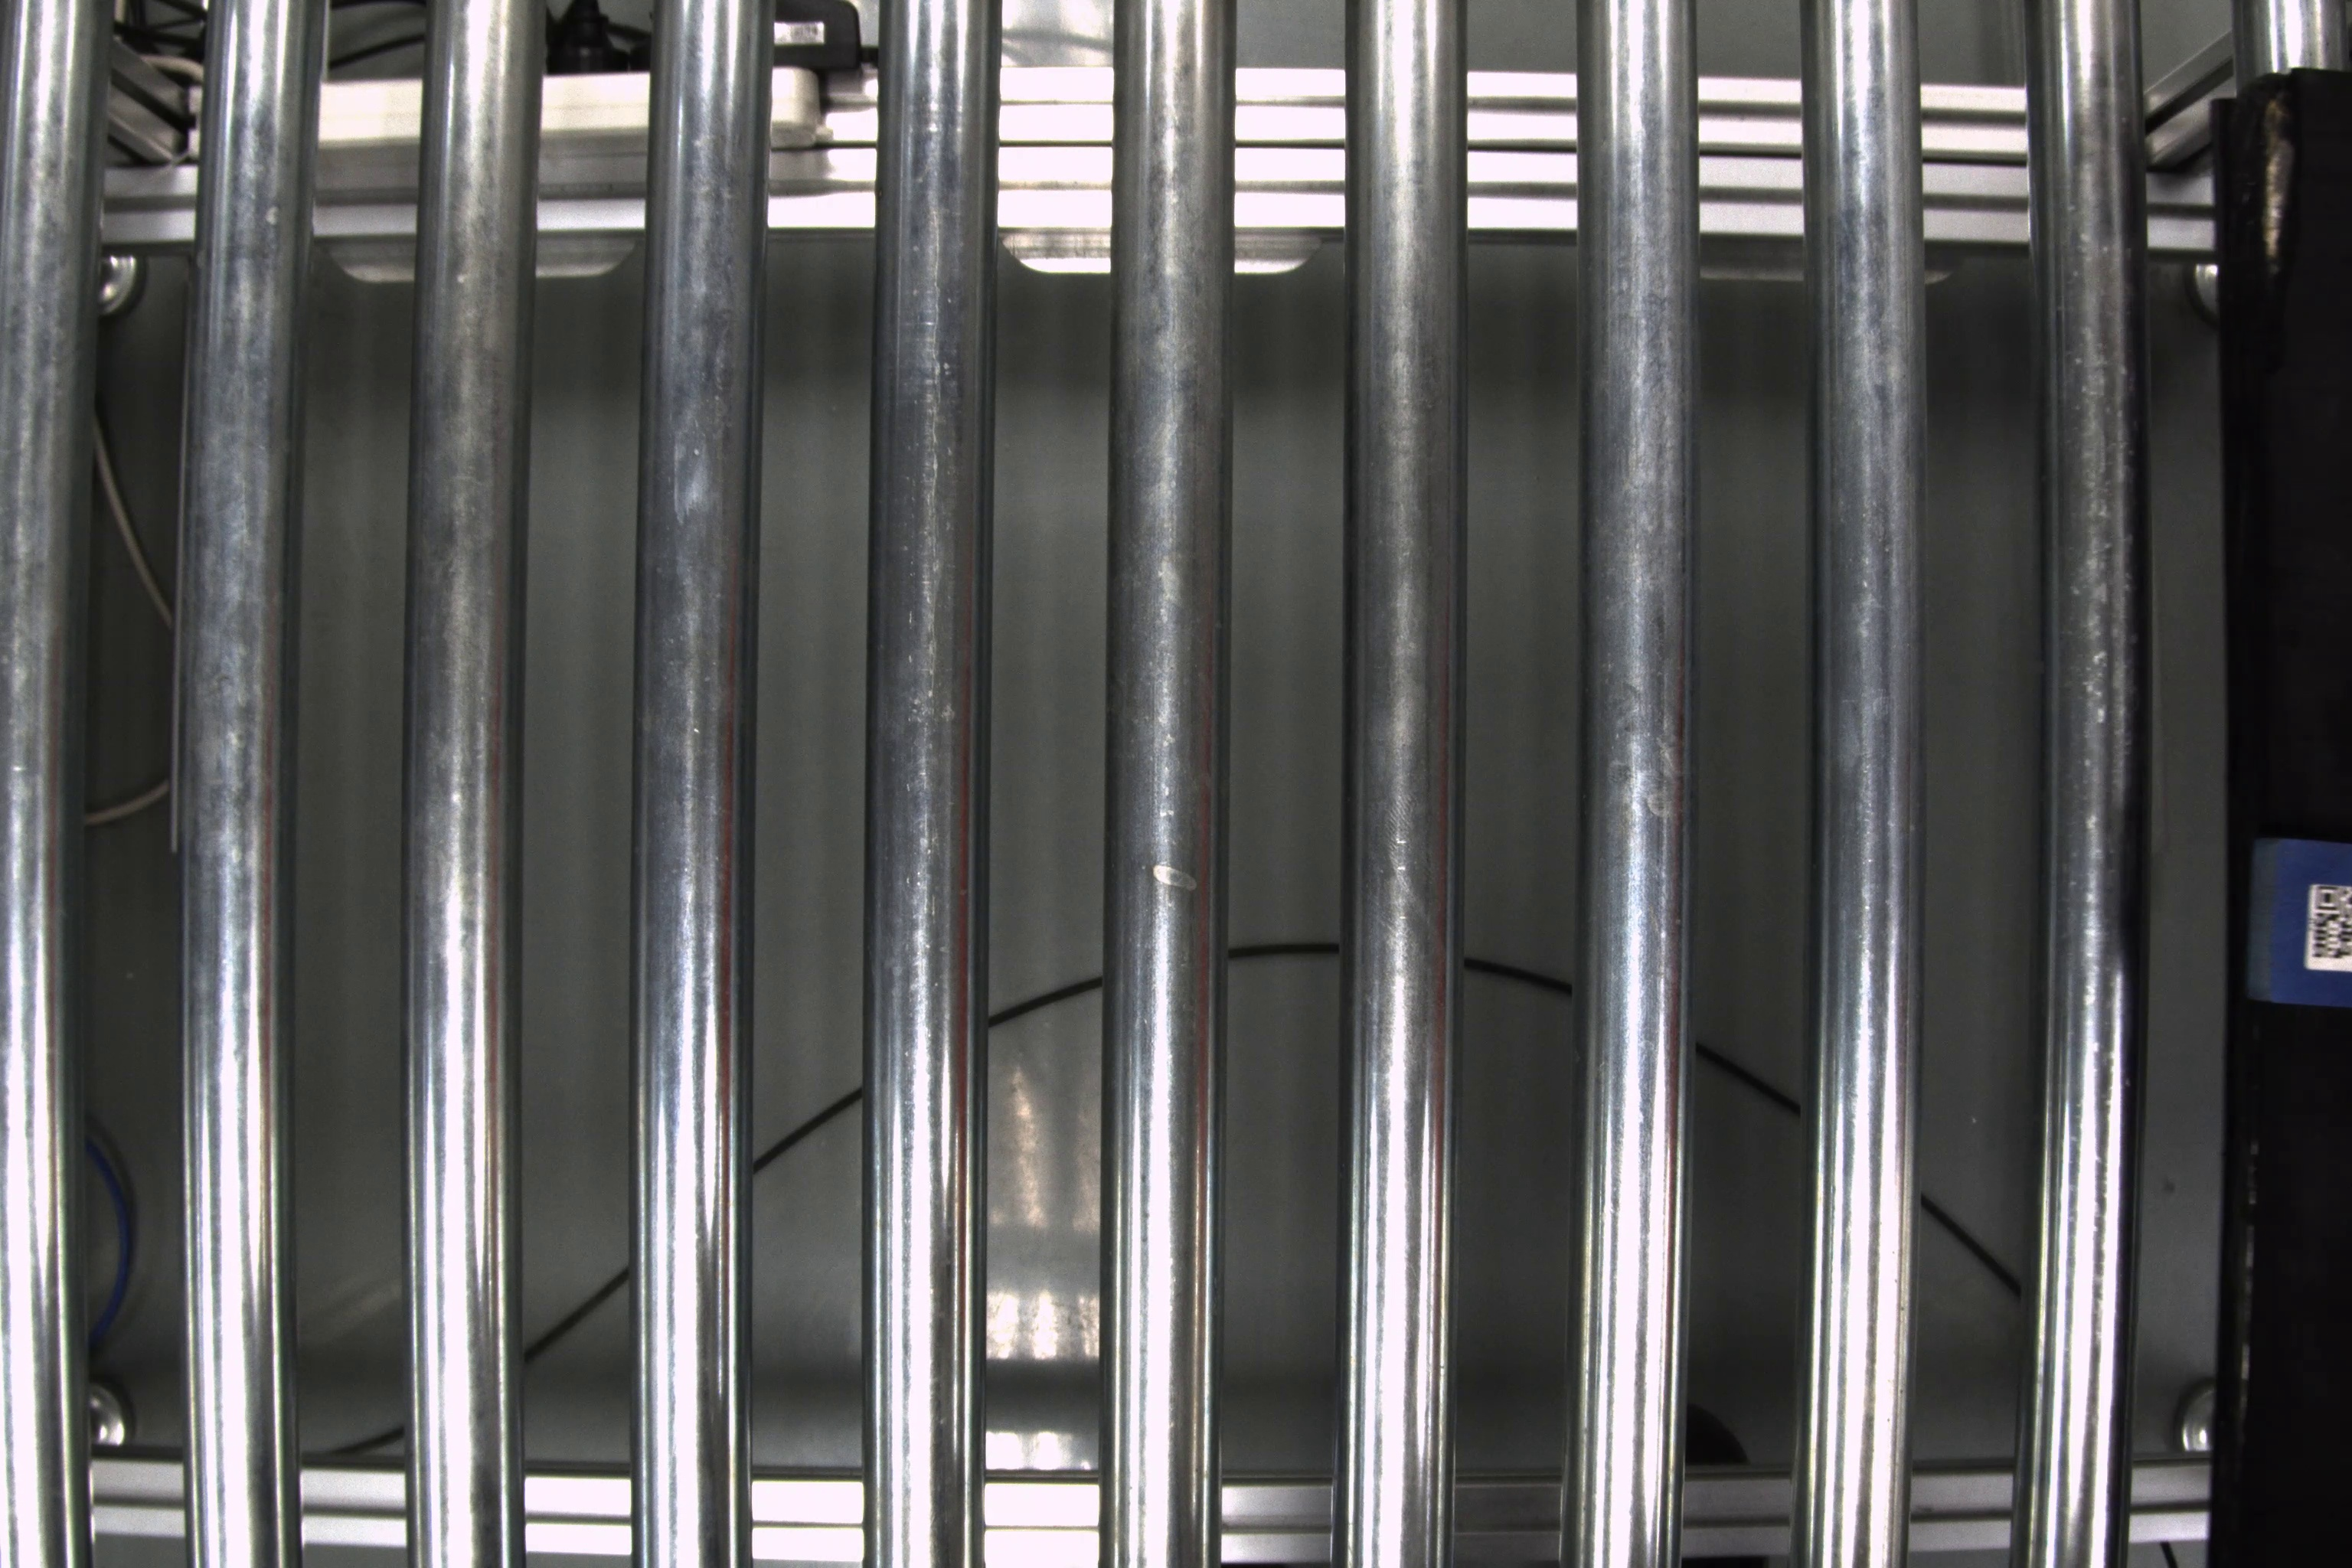wood: (2247, 835, 2347, 1015)
